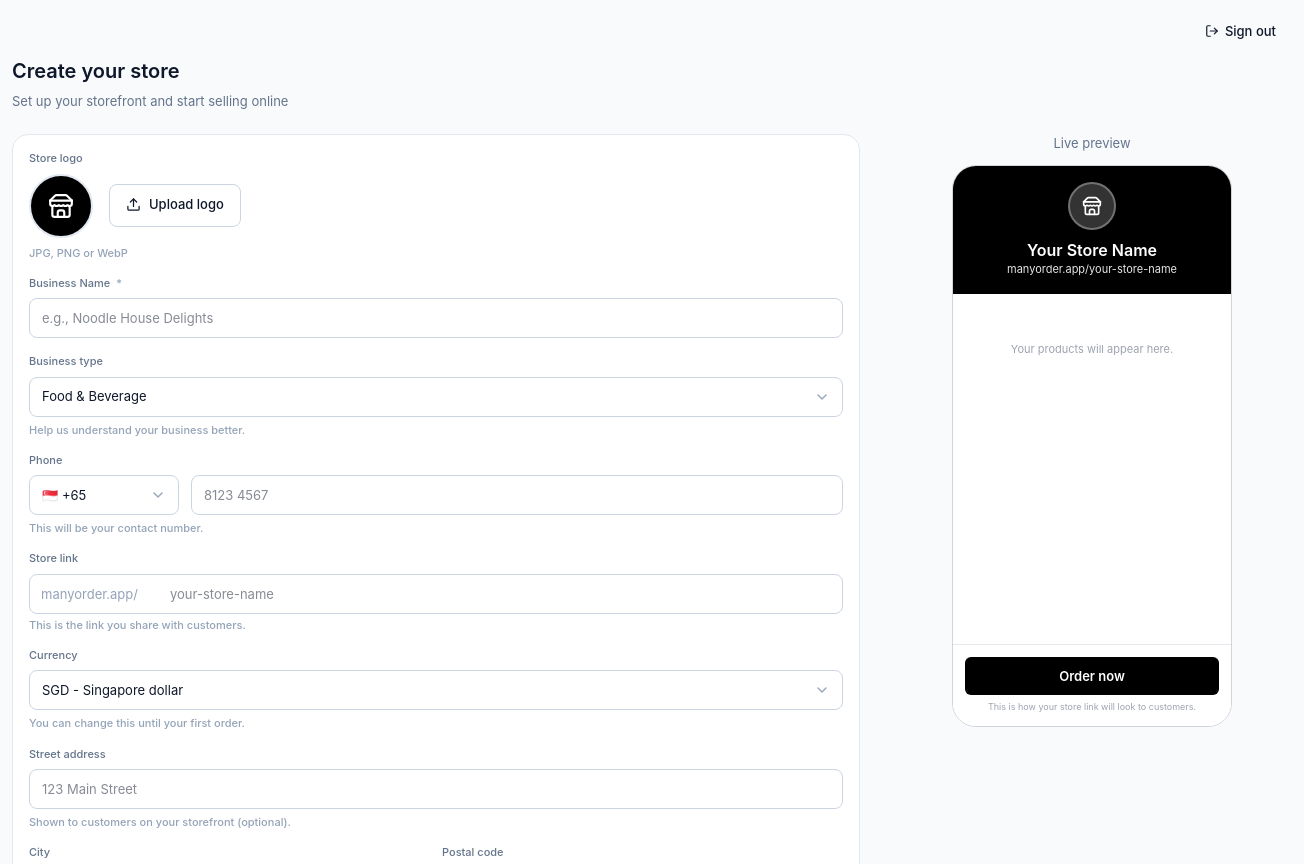
Scenario: CreateStore slug availability › shows the available message for a free link
This screenshot has width=1304, height=864.
Type "freeslug" into the field with placeholder "your-store-name" at (436, 594), box [29,574,843,614]
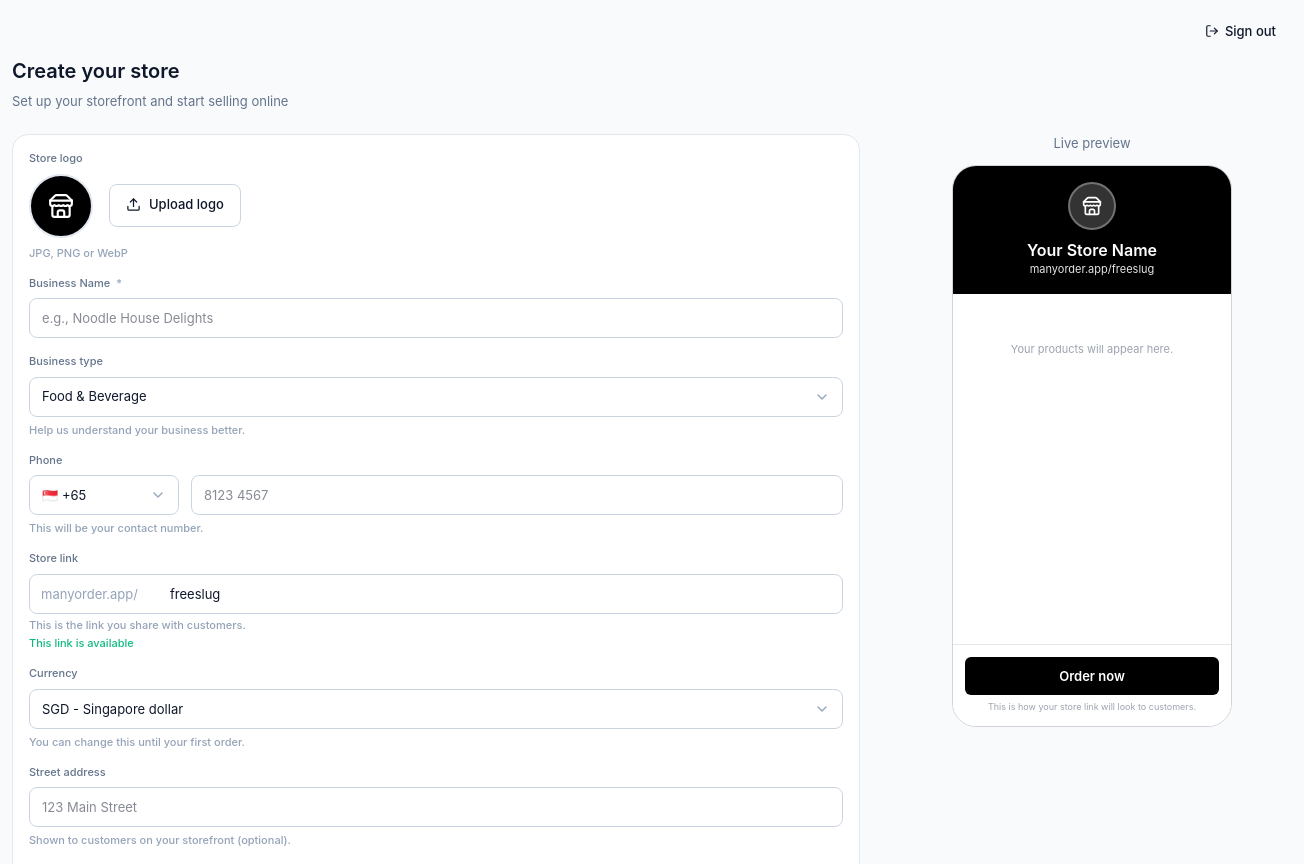
Check: the text "This link is available" is shown, box [29,636,134,650]
